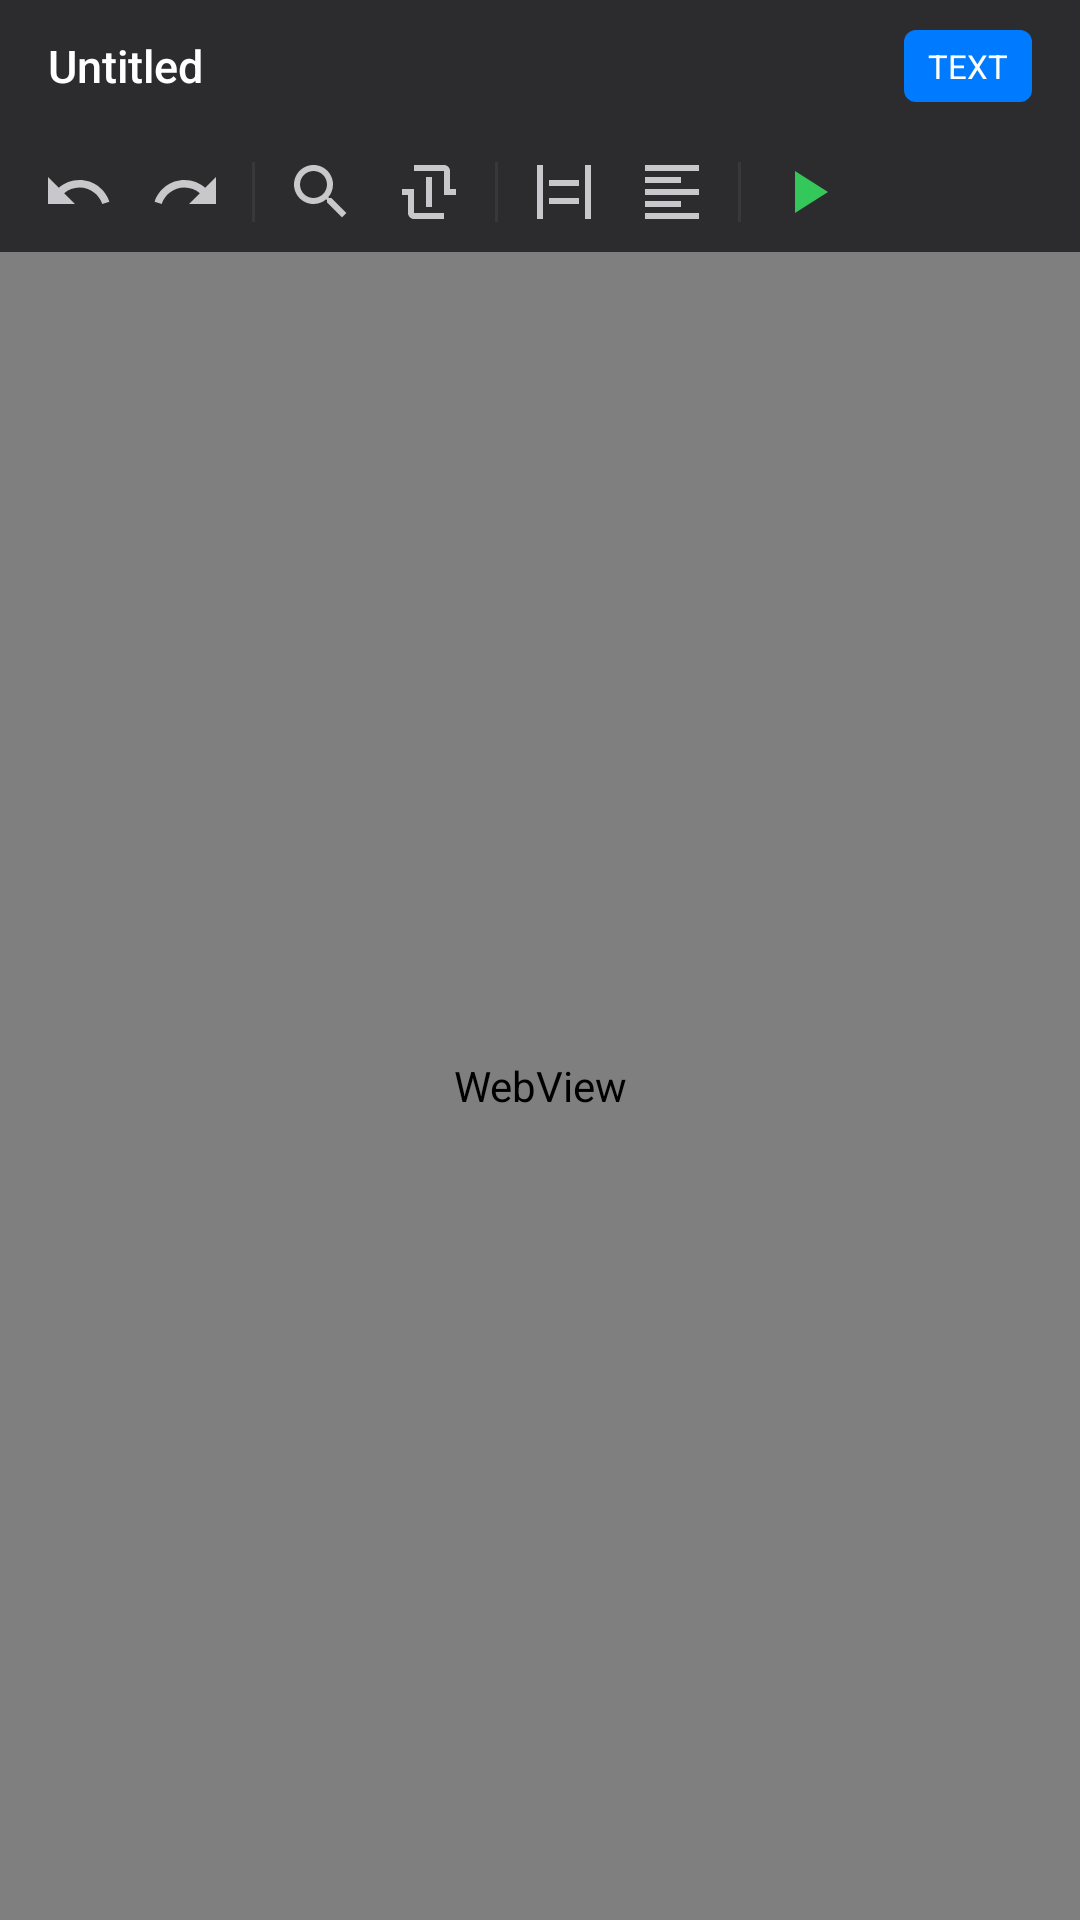

Where to tap for icons on this 1080px×1920px app screen, as [x,y]:
Find: [320,191]
Format: [672,192]
Go to Line: [564,192]
Redo: [185,190]
Replace: [429,192]
Run: [811,192]
Undo: [79,190]
